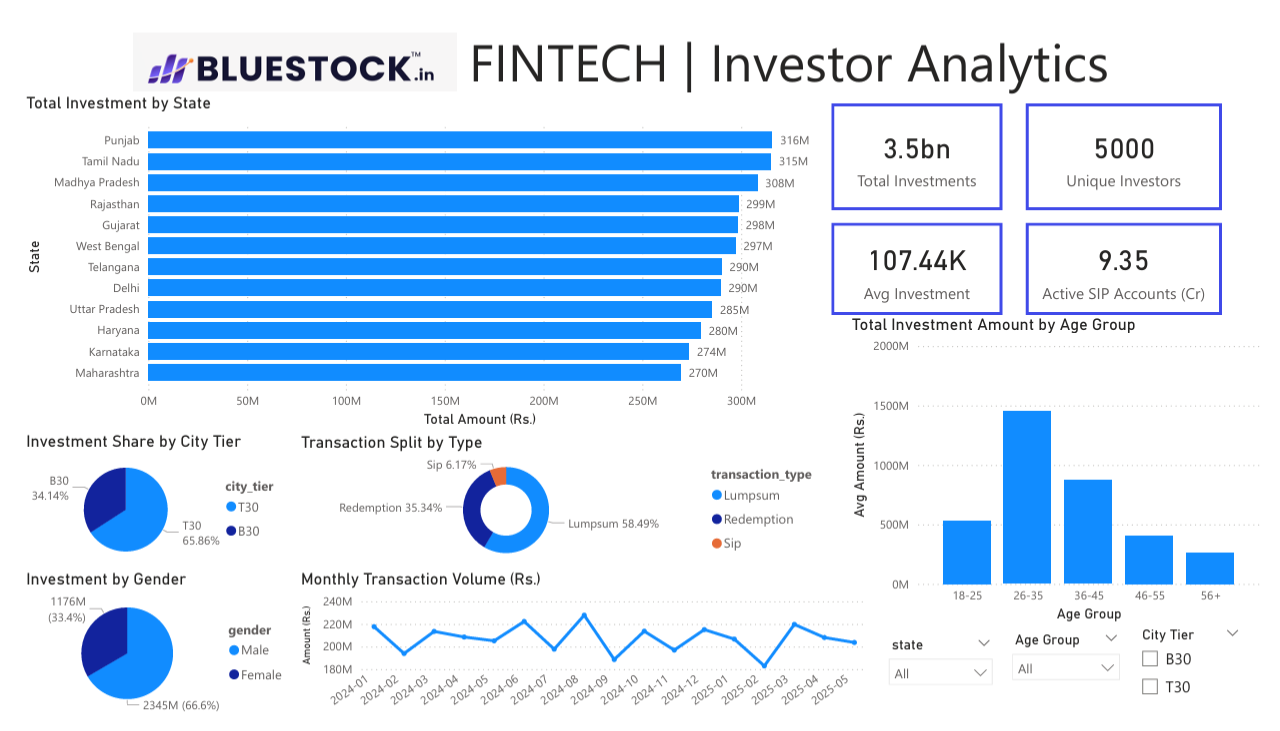

Layout of this report page (visuals, bound fields, positions):
{"tool":"powerbi","page":{"name":"Investor Analytics","canvas":[1280,720],"ordinal":2},"visuals":[{"type":"textbox","box":[10.3,0,1269.7,86.4],"z":0},{"type":"clusteredBarChart","title":"Total Investment by State","fields":{"Category":["clean_investor_transactions.state"],"Y":["Sum(clean_investor_transactions.amount_inr)"]},"box":[0,75,833.8,348.8],"z":1000},{"type":"donutChart","title":"Transaction Split by Type","fields":{"Category":["clean_investor_transactions.transaction_type"],"Y":["Sum(clean_investor_transactions.amount_inr)"]},"box":[282.5,425,551.2,141.2],"z":2000},{"type":"clusteredColumnChart","title":"Total Investment Amount by Age Group","fields":{"Category":["clean_investor_transactions.age_group"],"Y":["Sum(clean_investor_transactions.amount_inr)"]},"box":[850,303.3,430,321.7],"z":3000},{"type":"lineChart","title":"Monthly Transaction Volume (Rs.)","fields":{"Category":["clean_investor_transactions.Month"],"Y":["clean_investor_transactions.Monthly Transaction Volume"]},"box":[282.5,566.2,592.5,153.8],"z":4000},{"type":"pieChart","title":"Investment Share by City Tier","fields":{"Category":["clean_investor_transactions.city_tier"],"Y":["Sum(clean_investor_transactions.amount_inr)"]},"box":[0,423.8,282.5,142.5],"z":5000},{"type":"pieChart","title":"Investment by Gender","fields":{"Category":["clean_investor_transactions.gender"],"Y":["Sum(clean_investor_transactions.amount_inr)"]},"box":[0,566.2,282.5,153.8],"z":6000},{"type":"slicer","fields":{"Values":["clean_investor_transactions.state"]},"box":[882.5,630,127.5,80],"z":7000},{"type":"slicer","fields":{"Values":["clean_investor_transactions.age_group"]},"box":[1010,625,131.2,70],"z":8000},{"type":"slicer","fields":{"Values":["clean_investor_transactions.city_tier"]},"box":[1141.2,620,125,90],"z":9000},{"type":"image","box":[116.2,12.5,332.5,62.5],"z":10000},{"type":"card","fields":{"Values":["Sum(clean_investor_transactions.amount_inr)"]},"box":[833.8,86.2,176.2,110],"z":11000},{"type":"card","fields":{"Values":["Count(clean_investor_transactions.investor_id)"]},"box":[1033.8,86.2,202.5,110],"z":12000},{"type":"card","fields":{"Values":["Avg(clean_investor_transactions.amount_inr)"]},"box":[833.8,208.8,176.2,95],"z":13000},{"type":"card","fields":{"Values":["clean_monthly_sip_inflows.Latest SIP Accounts"]},"box":[1033.8,208.8,202.5,95],"z":14000}]}

Visuals, with their boxes in screenshot pixels (x1, y1, x2, y2), scaled from the page's 1280x720 canvas onto the 1280x731 screenshot:
textbox: <bbox>10, 0, 1279, 88</bbox>
"Total Investment by State" clusteredBarChart: <bbox>0, 76, 834, 430</bbox>
"Transaction Split by Type" donutChart: <bbox>282, 431, 834, 575</bbox>
"Total Investment Amount by Age Group" clusteredColumnChart: <bbox>850, 308, 1279, 635</bbox>
"Monthly Transaction Volume (Rs.)" lineChart: <bbox>282, 575, 875, 730</bbox>
"Investment Share by City Tier" pieChart: <bbox>0, 430, 282, 575</bbox>
"Investment by Gender" pieChart: <bbox>0, 575, 282, 730</bbox>
slicer - clean_investor_transactions.state: <bbox>882, 640, 1010, 721</bbox>
slicer - clean_investor_transactions.age_group: <bbox>1010, 635, 1141, 706</bbox>
slicer - clean_investor_transactions.city_tier: <bbox>1141, 629, 1266, 721</bbox>
image: <bbox>116, 13, 449, 76</bbox>
card - Sum(clean_investor_transactions.amount_inr): <bbox>834, 88, 1010, 199</bbox>
card - Count(clean_investor_transactions.investor_id): <bbox>1034, 88, 1236, 199</bbox>
card - Avg(clean_investor_transactions.amount_inr): <bbox>834, 212, 1010, 308</bbox>
card - clean_monthly_sip_inflows.Latest SIP Accounts: <bbox>1034, 212, 1236, 308</bbox>
